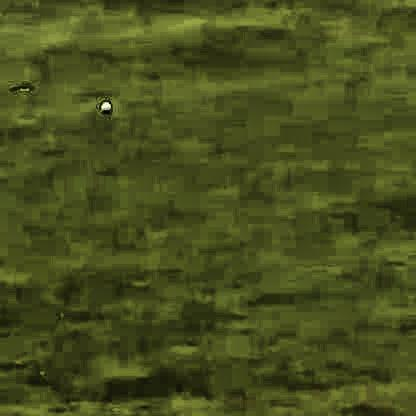golfball: (97, 99, 108, 111)
